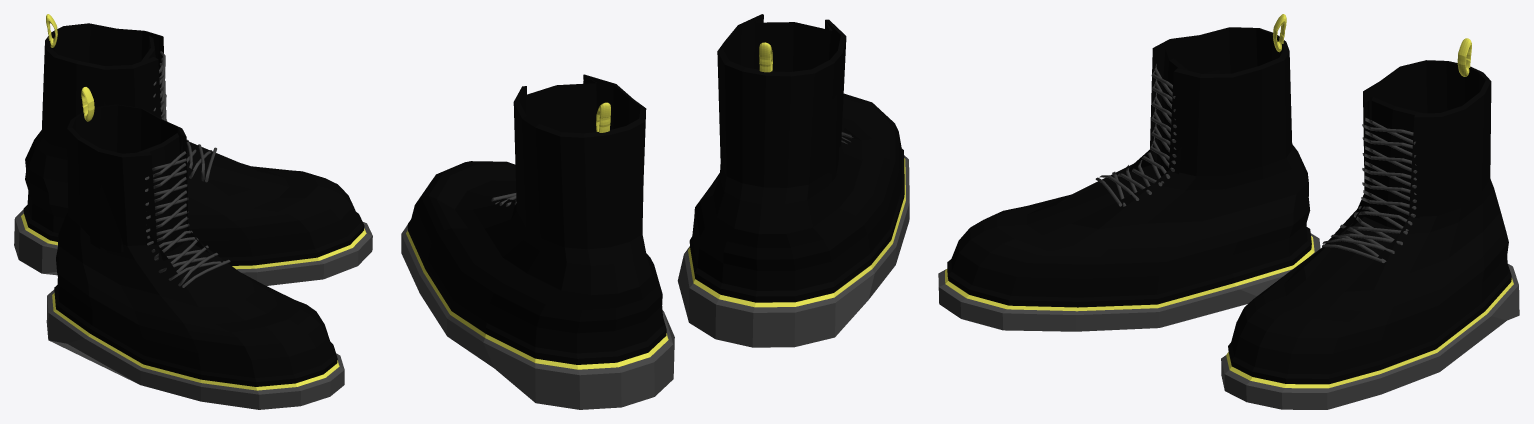
Rendered from Shoes.fbx.
3 views of the same model, side by side, from view 1: azimuth 30°, elevation 25°; view 2: azimuth 150°, elevation 25°; view 3: azimuth 270°, elevation 25° (orthographic). The views are drawn at different scales.
Parts seen in each view (by area): view 1: Shoes; view 2: Shoes; view 3: Shoes.
Boxes of the visible parts, bbox=[...] form: Shoes: bbox=[14, 14, 372, 409]; Shoes: bbox=[401, 14, 909, 409]; Shoes: bbox=[938, 14, 1519, 409].
Bounding box in the file's own units: 38.17 × 25.85 × 52.23.
